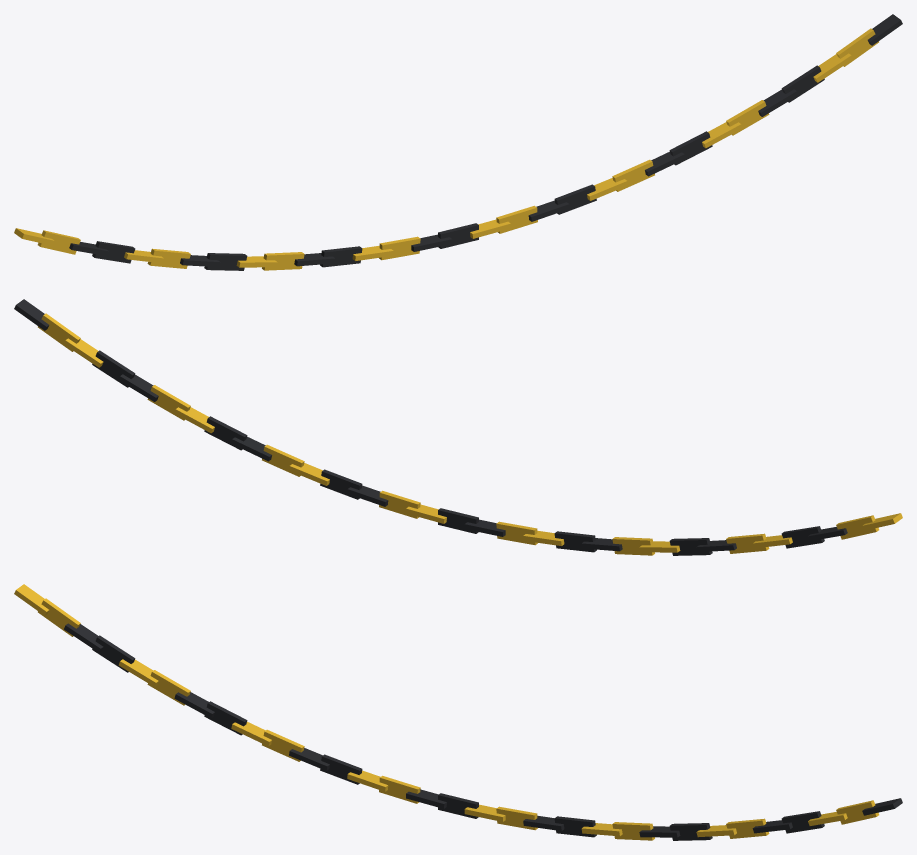
The model's file is SM_Street_BollardChain_150_01.gltf.
The picture shows the model from 3 angles, top to bottom: view 1: azimuth 30°, elevation 25°; view 2: azimuth 150°, elevation 25°; view 3: azimuth 330°, elevation 25°; orthographic projection.
Visible parts, largest first — view 1: SM_Street_BollardChain_150_01; view 2: SM_Street_BollardChain_150_01; view 3: SM_Street_BollardChain_150_01.
Part boxes in pixels (x1,y1,x2,y2): SM_Street_BollardChain_150_01: (14, 14, 902, 270); SM_Street_BollardChain_150_01: (14, 299, 902, 555); SM_Street_BollardChain_150_01: (14, 584, 902, 840).
Bounding box in the file's own units: 1.5 × 0.1949 × 0.024.
1 material, 1 textured.
